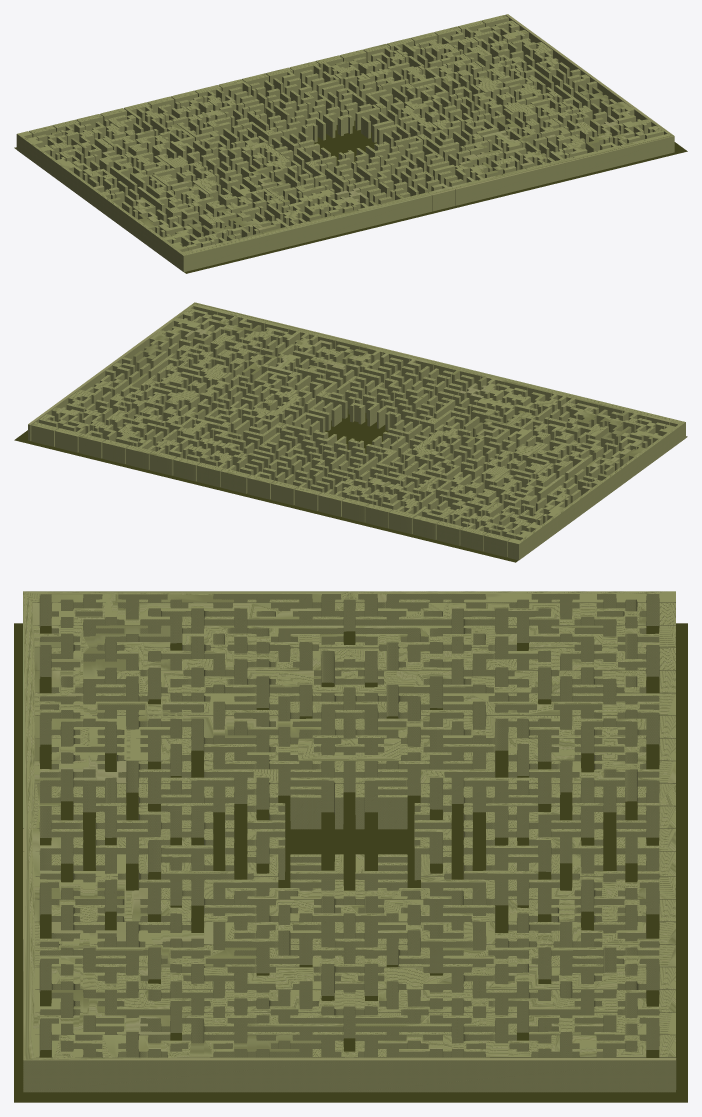
The model's file is Backrooms1.fbx.
3 views of the same model, one above another, from view 1: azimuth 30°, elevation 25°; view 2: azimuth 150°, elevation 25°; view 3: azimuth 270°, elevation 25° (orthographic). The views are drawn at different scales.
Parts seen in each view (by area): view 1: Plane; view 2: Plane; view 3: Plane.
Boxes of the visible parts, left/top/right/bottom form: Plane: left=14, top=14, right=687, bottom=273; Plane: left=14, top=302, right=687, bottom=562; Plane: left=14, top=591, right=687, bottom=1102.
Bounding box in the file's own units: 13182 × 409 × 7833.
